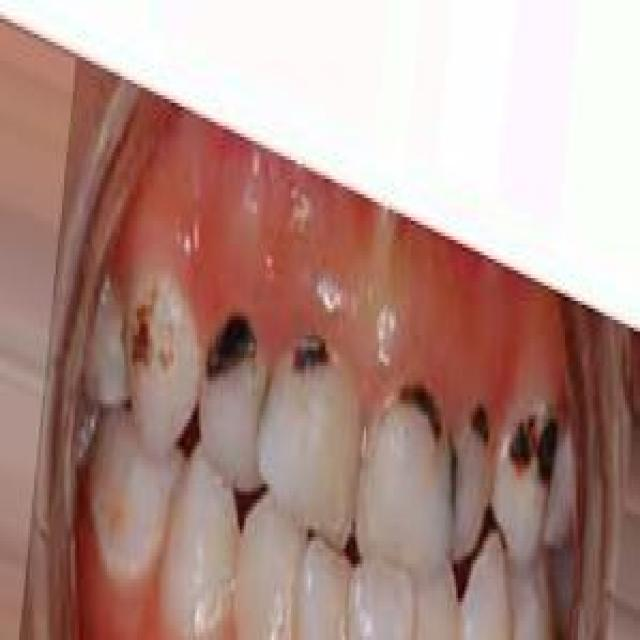caries: (491, 385, 562, 560), (271, 317, 359, 447), (198, 304, 269, 459), (440, 393, 490, 540), (384, 365, 446, 470)
